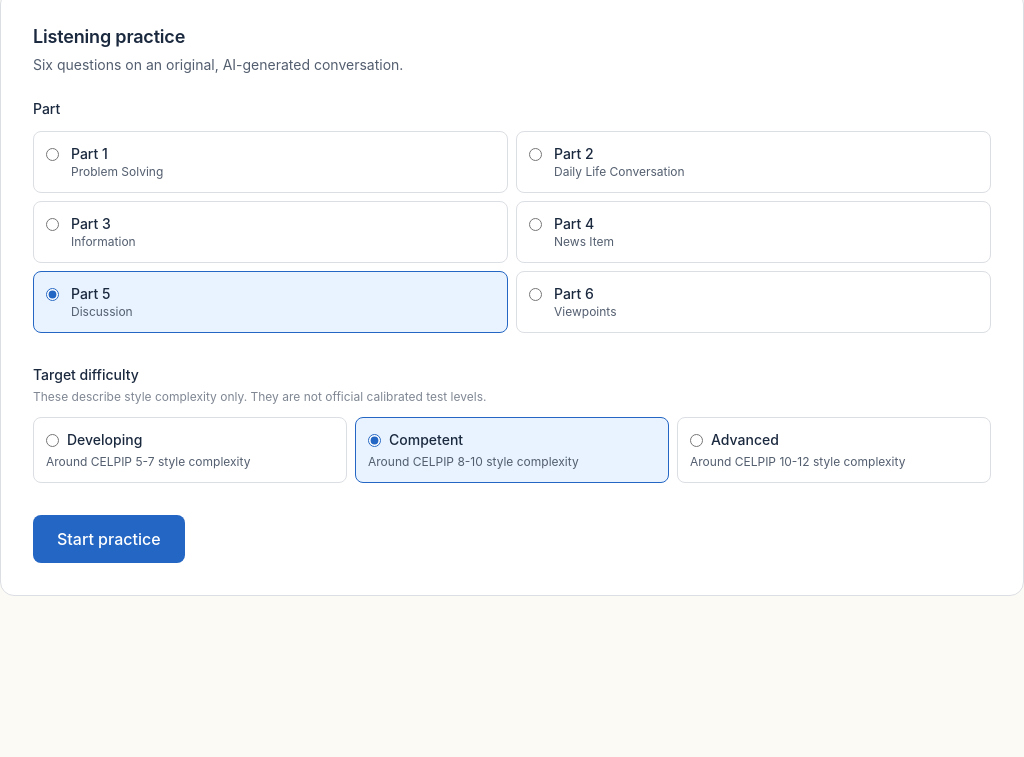
Scenario: ListeningPage › supports the whole flow from the keyboard
The image size is (1024, 757).
Expected: the button "Start practice" is shown, 33,515 -> 185,563
# Tab enters a radio group at the checked option, then arrows move within it.
Press Tab
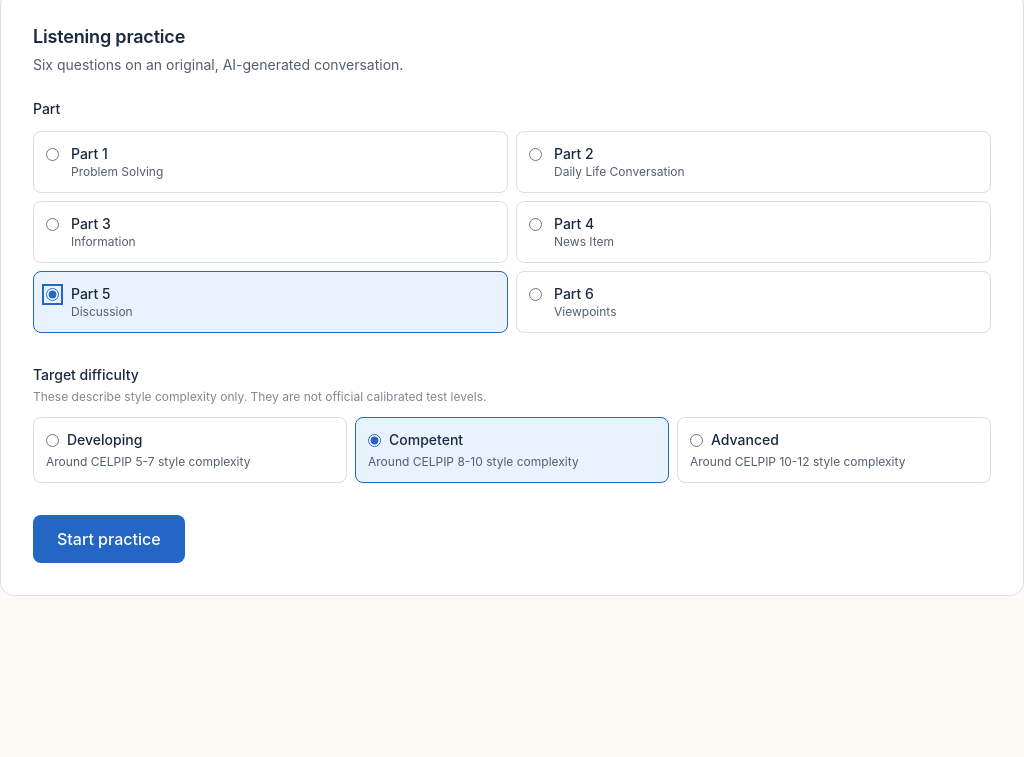
Press Arrowdown
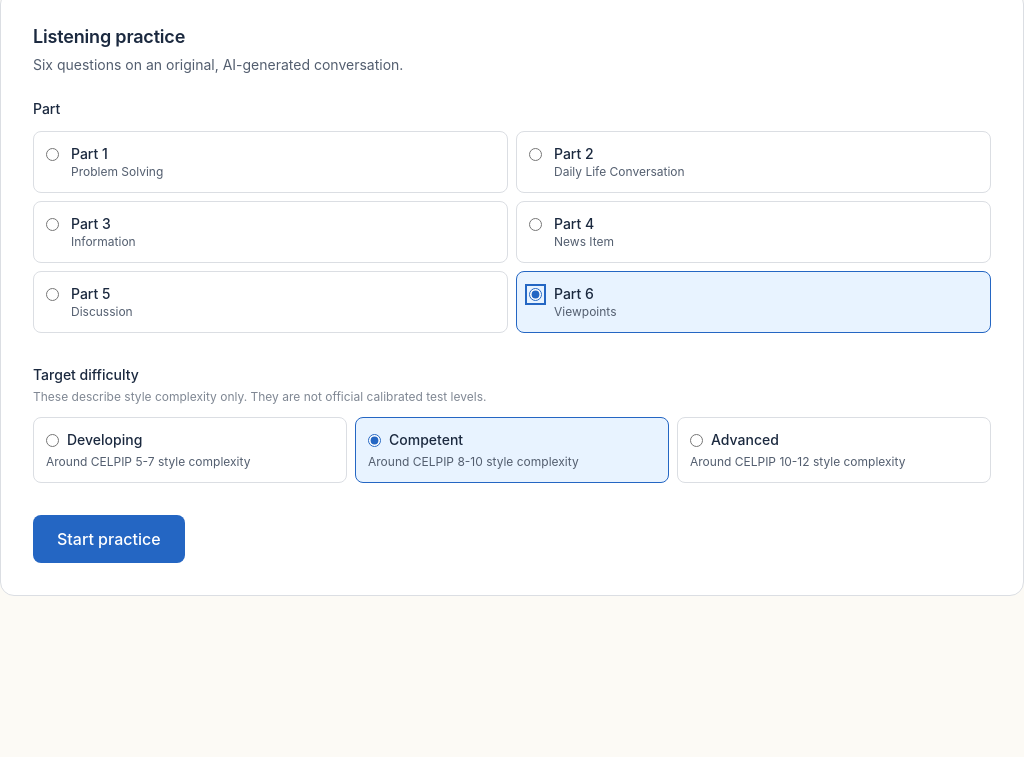
Now the radio button labelled "Part 6 Viewpoints" is checked, box 529,288 -> 542,301
Click the button "Start practice": (109, 539) 33,515 -> 185,563
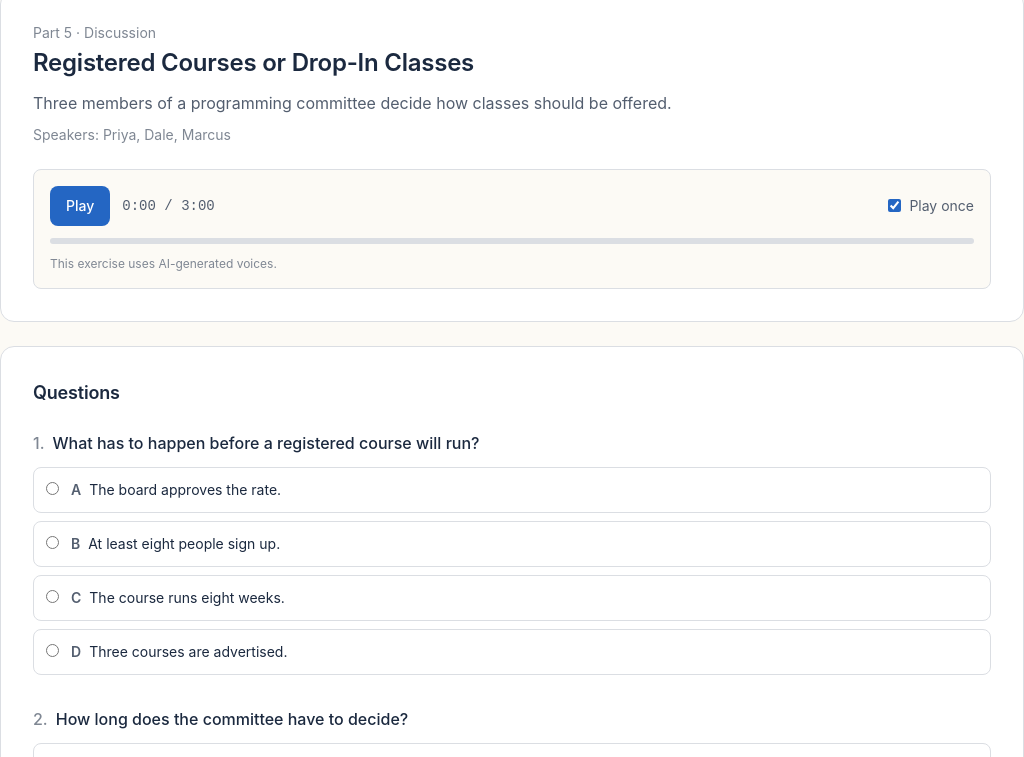
Now the heading "Registered Courses or Drop-In Classes" is shown, box 33,48 -> 474,77
Click the radio button labelled "BAt least eight people sign up.": (52, 542) 46,536 -> 59,549
(page scrolled)
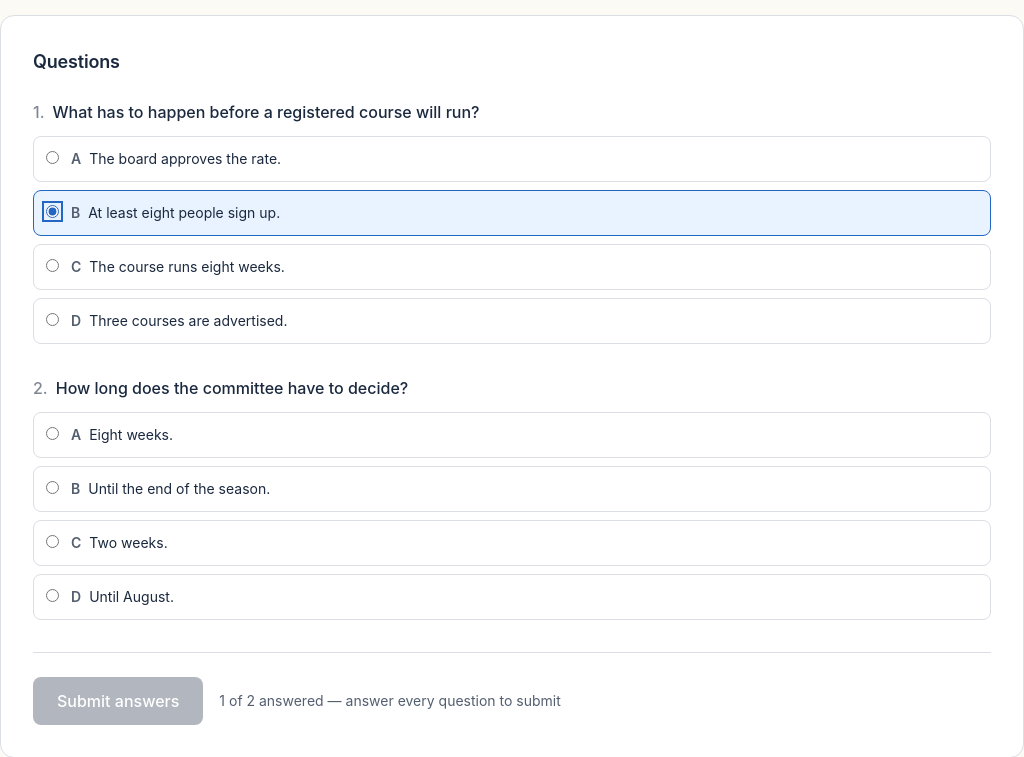
Click the radio button labelled "Two weeks": (52, 541) 46,535 -> 59,548
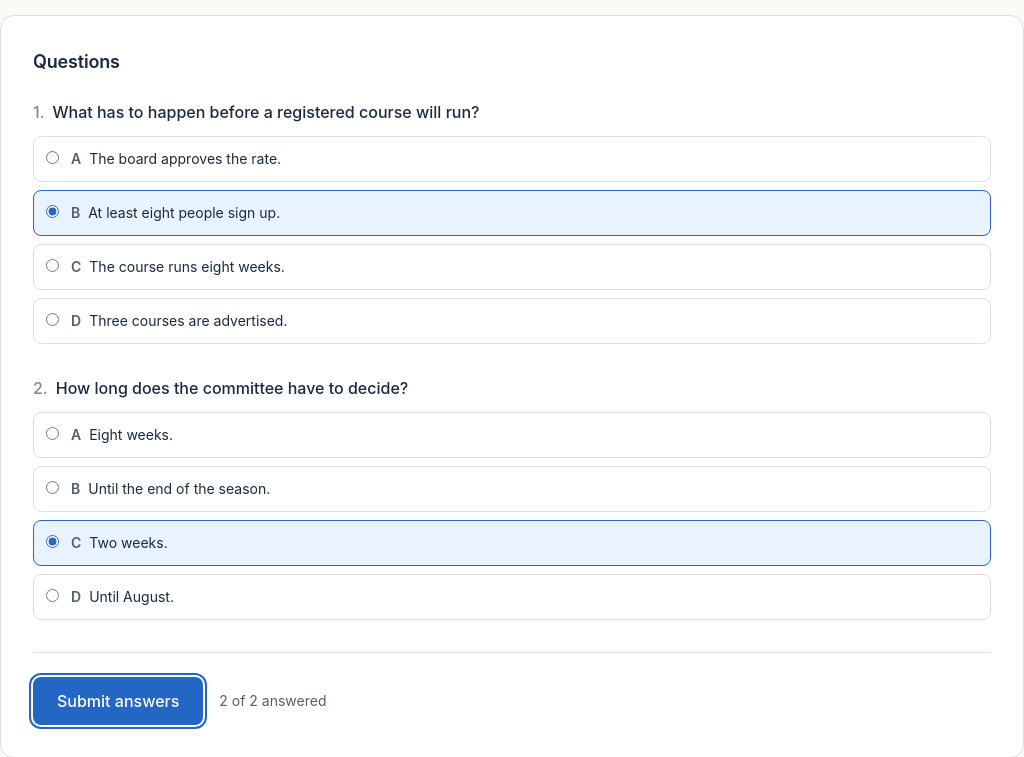
Press Enter
(page scrolled)
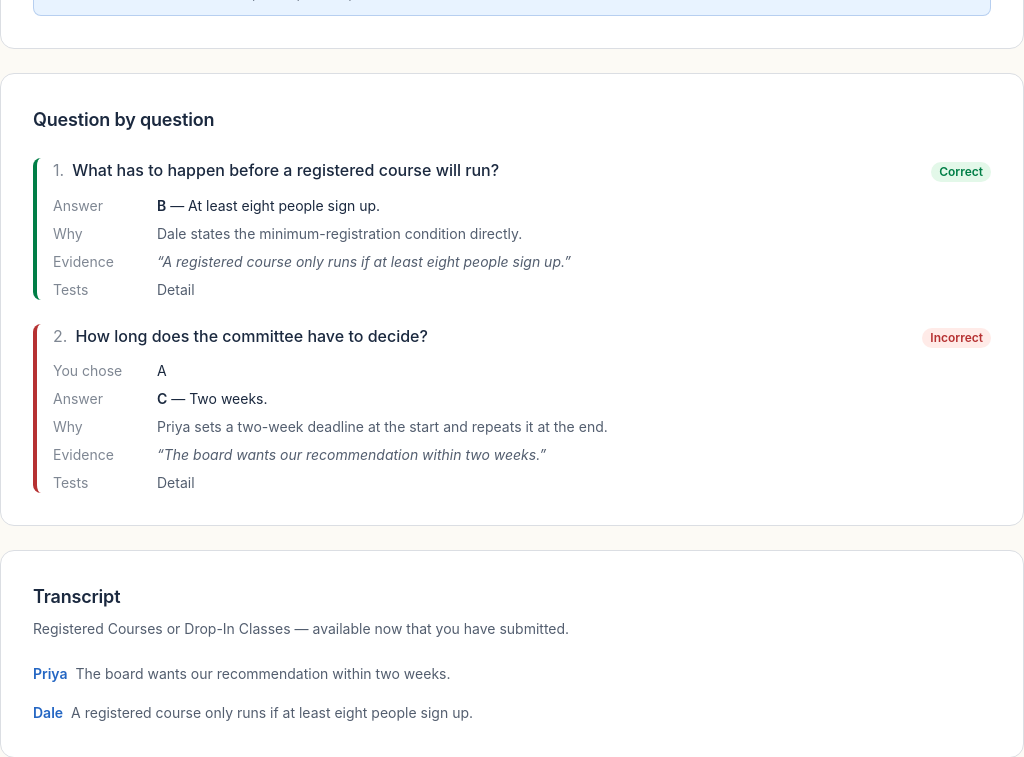
Now the heading "Transcript" is shown, box 33,586 -> 120,607
